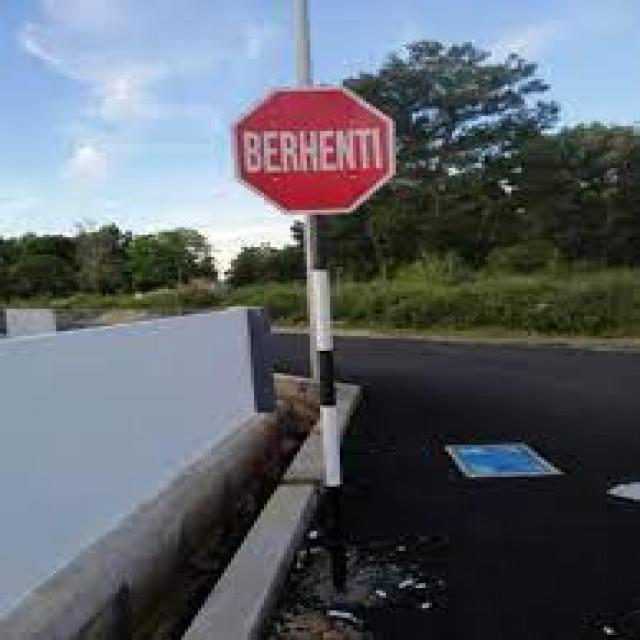stop-sign: (194, 94, 413, 233)
